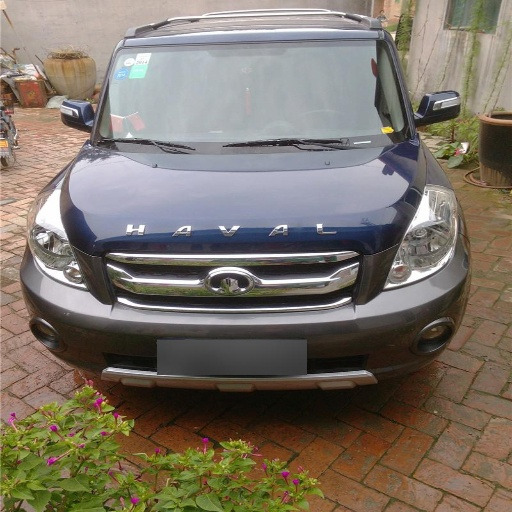front_bumper: (25, 236, 467, 389)
front_right_light: (30, 195, 87, 288)
hood: (62, 137, 427, 253)
left_mirror: (417, 91, 461, 127)
